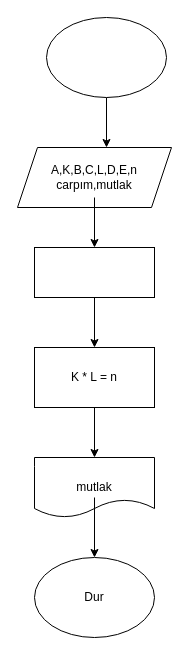
The diagram is 189 pixels wide and 655 high, and some of its shapes have lost their labels. The shapes that lost their labels are listed below. From the top down, each one's centre as x and y in pixels, then its label:
At (106,57): "Başla".
At (94,272): "K=0,1 L=0,1".
